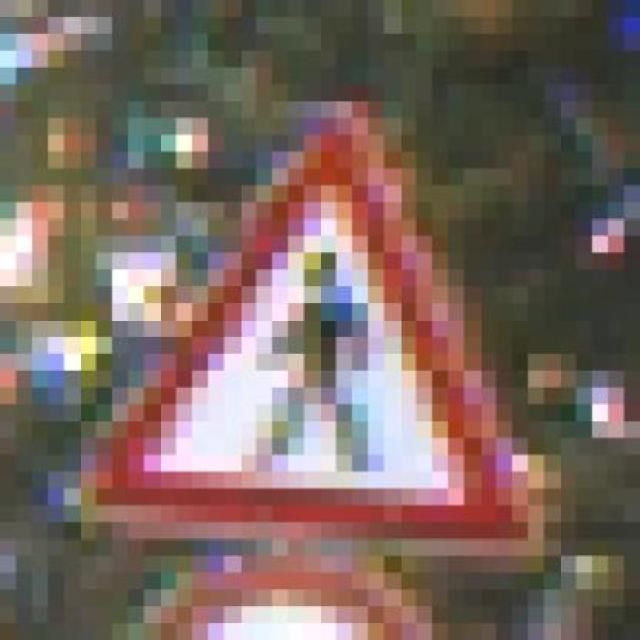Pedestrian Crossing: (80, 101, 545, 573)
